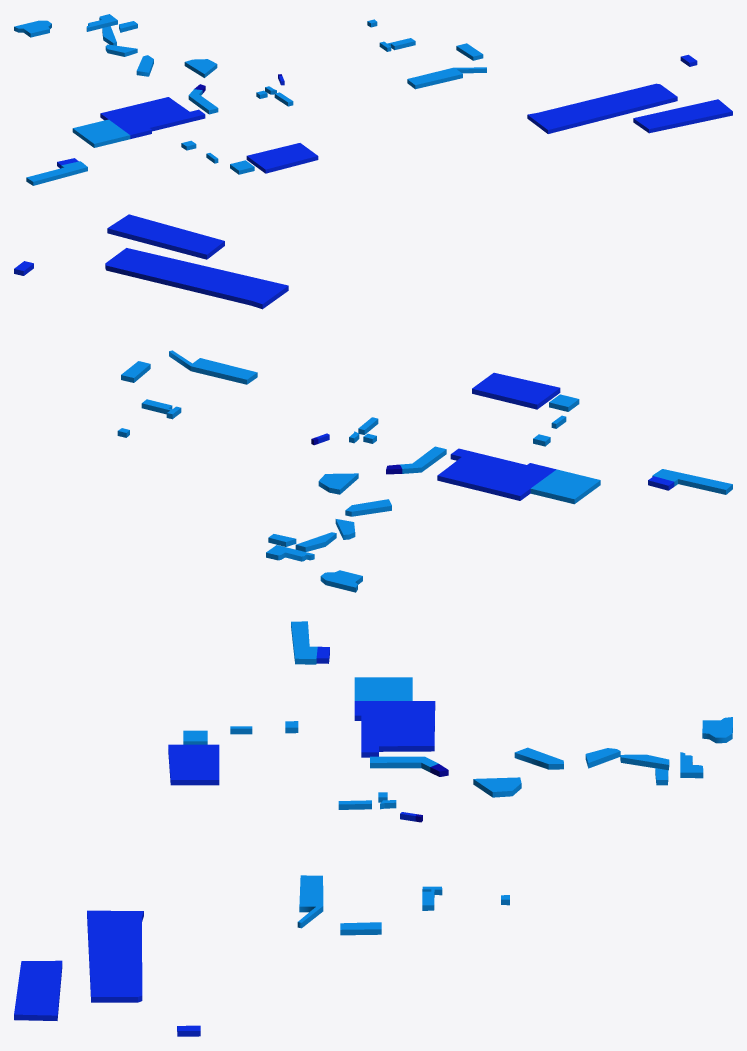
The model's file is parking_1.fbx.
3 views of the same model, one above another, from view 1: azimuth 30°, elevation 25°; view 2: azimuth 150°, elevation 25°; view 3: azimuth 270°, elevation 25° (orthographic). The views are drawn at different scales.
Visible parts, largest first — view 1: Box020, Box001, Box021, Box004, Object001, Box016, Box003, Box015, Box009, Box006, Box014, Box018; view 2: Box020, Box001, Box021, Box004, Object001, Box016, Box003, Box015, Box009; view 3: Box020, Box001, Box021, Box004, Object001, Box016, Box003, Box006, Box009, Box015.
Boxes of the visible parts, x1,y1,x2,y2 form: Box020: [527, 83, 677, 133]; Box001: [100, 97, 205, 138]; Box021: [633, 99, 732, 133]; Box004: [246, 143, 318, 173]; Object001: [72, 119, 130, 147]; Box016: [407, 67, 486, 89]; Box003: [26, 161, 87, 185]; Box015: [14, 20, 51, 37]; Box009: [184, 59, 217, 77]; Box006: [188, 89, 218, 114]; Box014: [86, 14, 117, 31]; Box018: [379, 38, 415, 51]; Box020: [105, 248, 288, 309]; Box001: [437, 448, 556, 500]; Box021: [107, 214, 224, 259]; Box004: [472, 372, 560, 409]; Object001: [530, 469, 600, 504]; Box016: [169, 350, 257, 384]; Box003: [652, 469, 732, 494]; Box015: [320, 570, 362, 592]; Box009: [318, 473, 358, 494]; Box020: [87, 910, 143, 1002]; Box001: [354, 701, 435, 757]; Box021: [14, 960, 62, 1020]; Box004: [168, 744, 219, 785]; Object001: [354, 677, 412, 700]; Box016: [297, 875, 323, 928]; Box003: [291, 621, 317, 664]; Box006: [370, 756, 438, 772]; Box009: [473, 777, 521, 797]; Box015: [702, 717, 732, 743].
Bounding box in the file's own units: 312 × 1.97 × 232.
